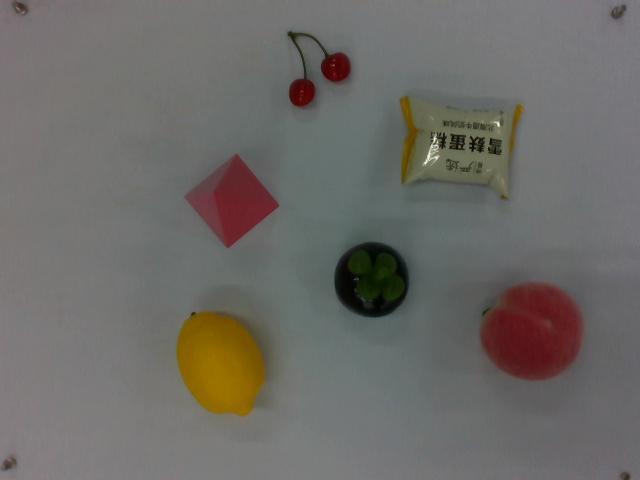cherry: (283, 25, 351, 111)
dessert: (400, 94, 521, 202)
lemon: (175, 307, 269, 421)
mangosteen: (336, 241, 409, 318)
peach: (476, 277, 587, 385)
pyramid: (185, 151, 279, 247)
